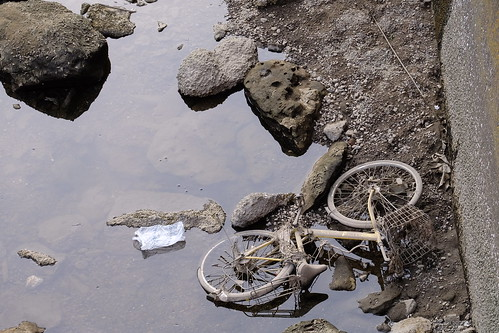bicicle: (185, 156, 444, 314)
rocks: (1, 1, 346, 163)
